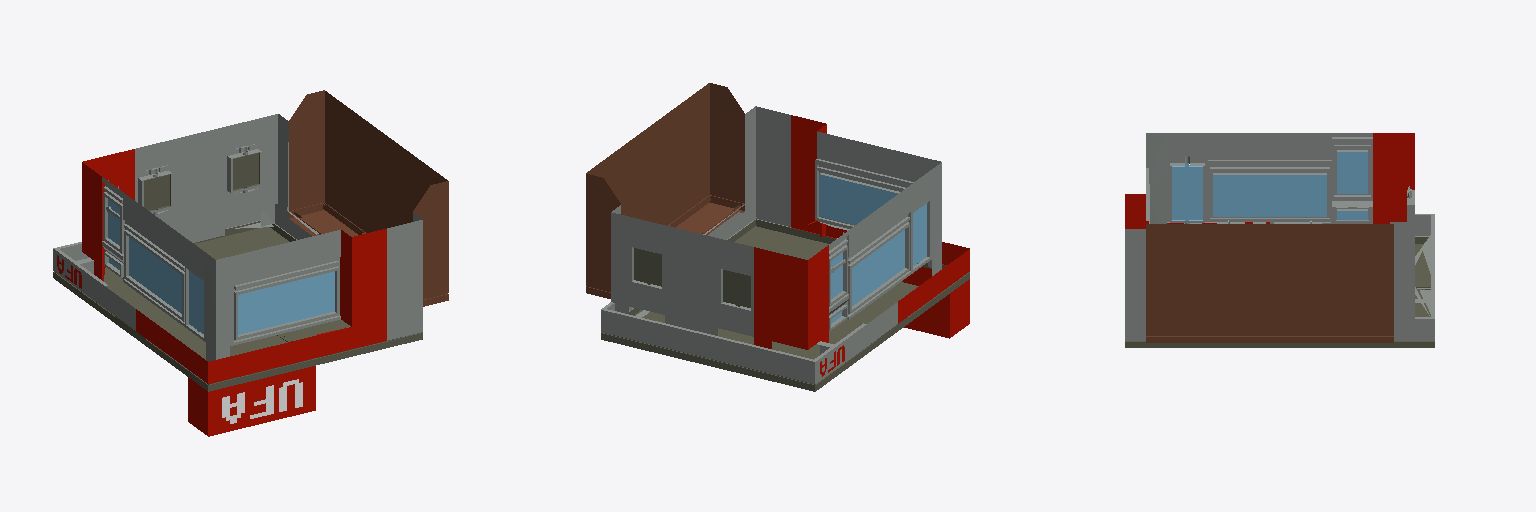
The model's file is Unity Fried Animal.obj.
The picture shows the model from 3 angles: view 1: azimuth 30°, elevation 25°; view 2: azimuth 150°, elevation 25°; view 3: azimuth 270°, elevation 25°; orthographic projection.
Visible parts, largest first — view 1: default, Text003; view 2: default; view 3: default.
Boxes of the visible parts, x1,y1,x2,y2 form: default: [53, 90, 448, 436]; Text003: [222, 379, 302, 423]; default: [586, 83, 969, 391]; default: [1125, 133, 1434, 347].
Bounding box in the file's own units: 281 × 200 × 300.